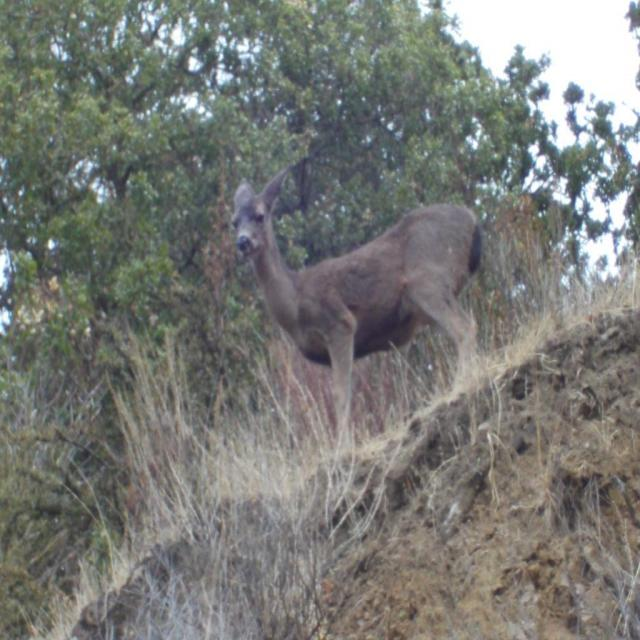Deer: (231, 166, 481, 449)
